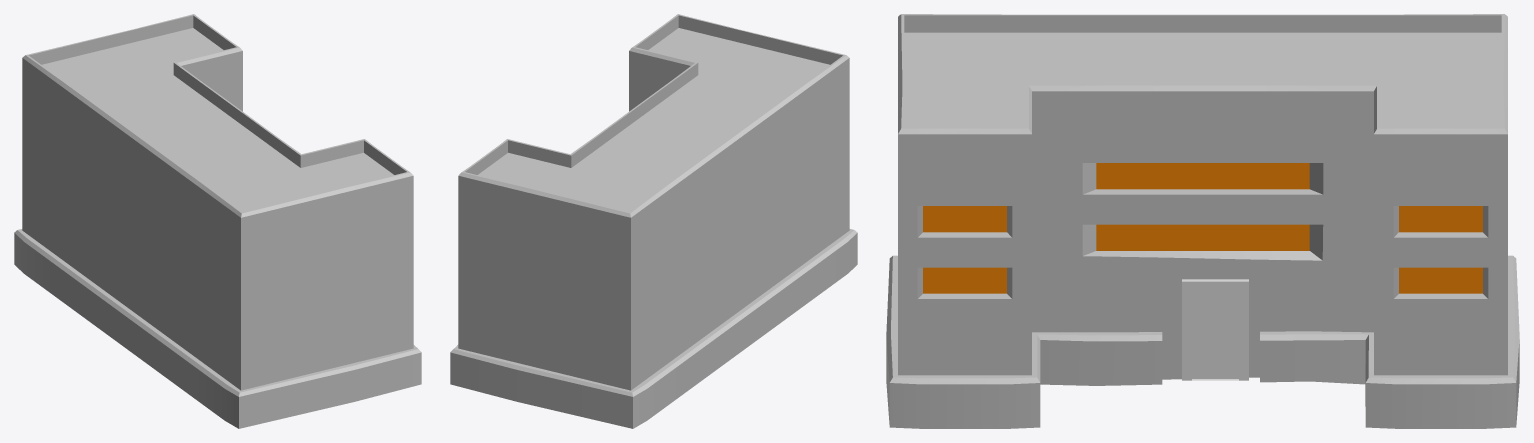
File: Building_4.FBX
3 views of the same model, side by side, from view 1: azimuth 30°, elevation 25°; view 2: azimuth 150°, elevation 25°; view 3: azimuth 270°, elevation 25° (orthographic). The views are drawn at different scales.
Visible parts, largest first — view 1: Building 2; view 2: Building 2; view 3: Building 2, Door_2.
Boxes of the visible parts, x1,y1,x2,y2 form: Building 2: (14,14,421,428); Building 2: (450,14,857,428); Building 2: (886,14,1519,428); Door_2: (1182,279,1248,380).
Size of the model in its own units: 593 by 638 by 1246.
